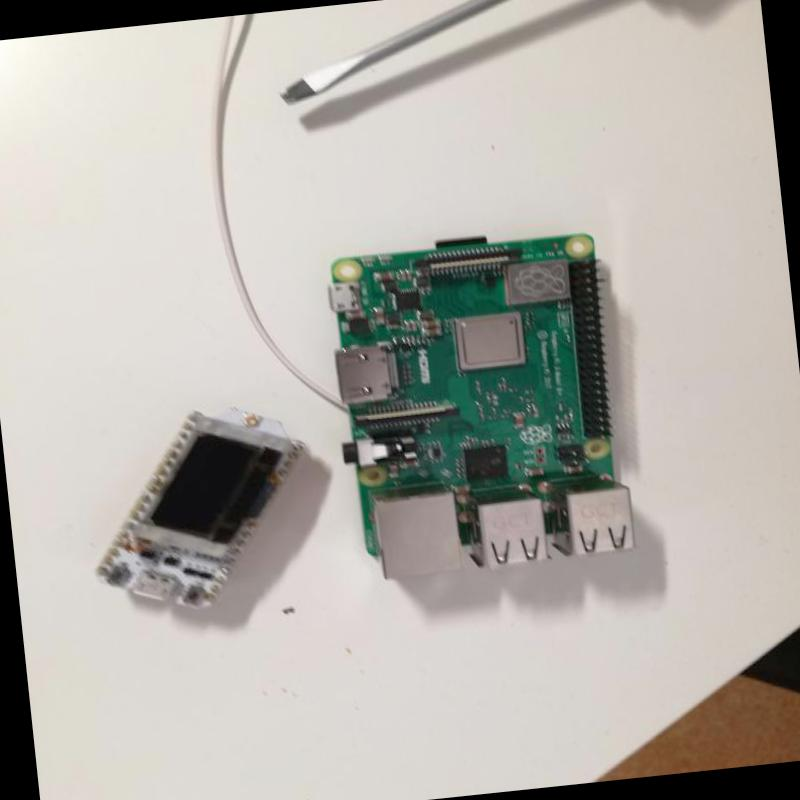Heltec_ESP32_Lora: (76, 395, 323, 626)
Raspberry_Pi_3: (324, 216, 647, 596)
